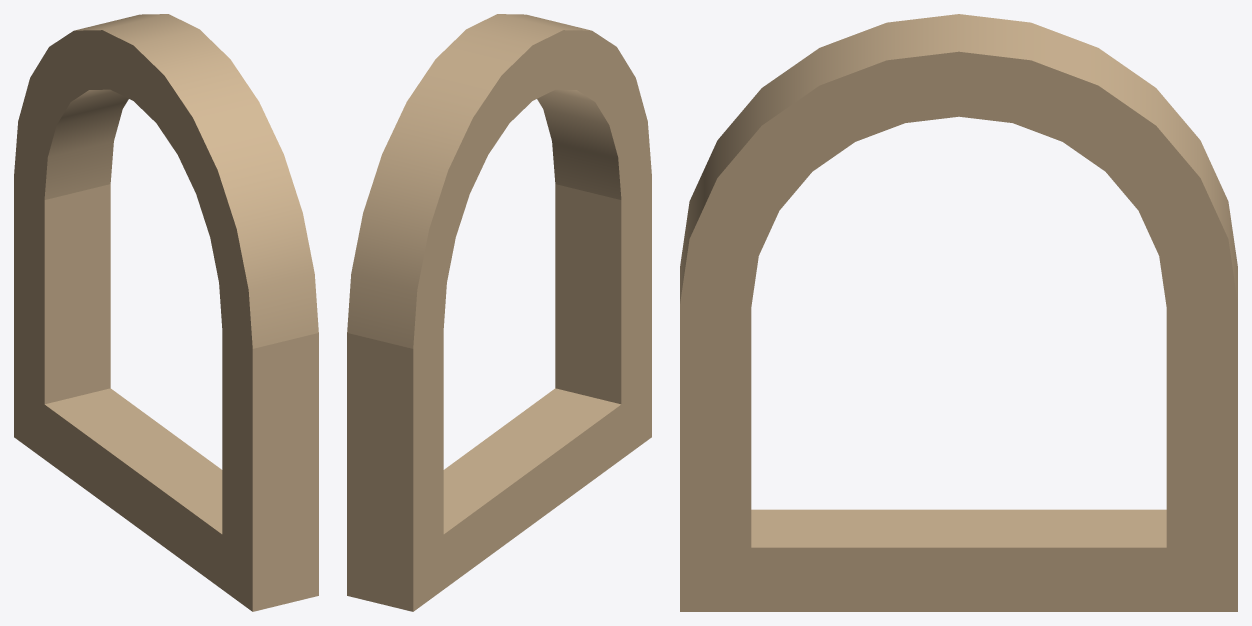
Rendered from detail_025.glb.
3 views of the same model, side by side, from view 1: azimuth 30°, elevation 25°; view 2: azimuth 150°, elevation 25°; view 3: azimuth 270°, elevation 25° (orthographic). The views are drawn at different scales.
Visible parts, largest first — view 1: detail_025; view 2: detail_025; view 3: detail_025.
Boxes of the visible parts, x1,y1,x2,y2 form: detail_025: [14, 14, 318, 611]; detail_025: [347, 14, 651, 611]; detail_025: [680, 14, 1237, 611].
Bounding box in the file's own units: 0.05 × 0.3462 × 0.3125.
